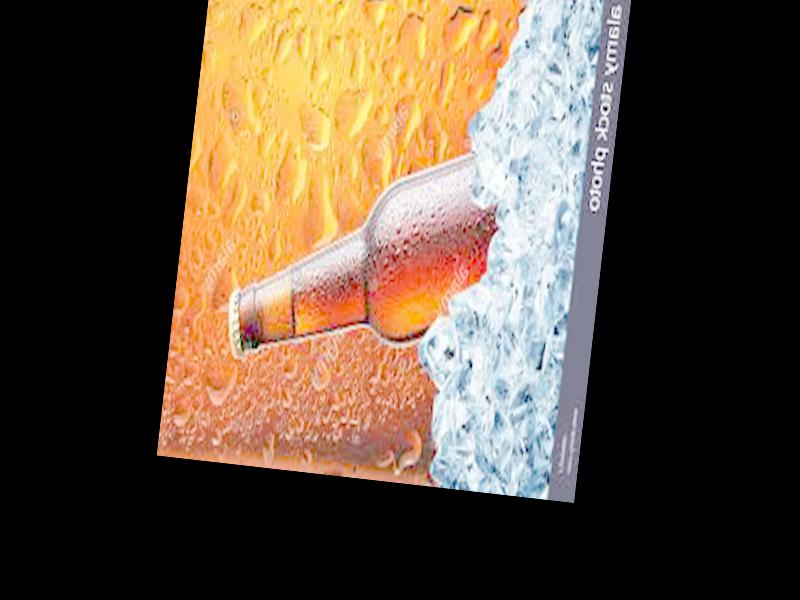Beer: (221, 131, 507, 398)
